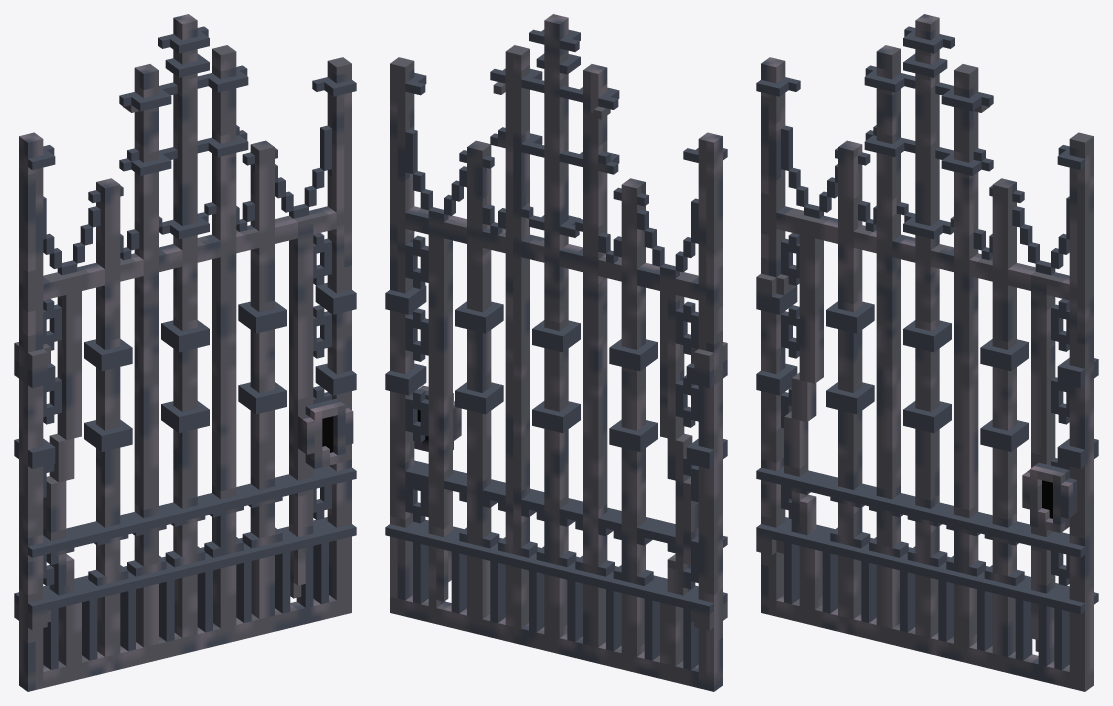
The model's file is Entrance_Portal-0.fbx.
3 renders of one model, left to right at view 1: azimuth 30°, elevation 25°; view 2: azimuth 150°, elevation 25°; view 3: azimuth 330°, elevation 25°, orthographic.
Parts seen in each view (by area): view 1: Entrance_Portal-0; view 2: Entrance_Portal-0; view 3: Entrance_Portal-0.
Part boxes in pixels (bbox=[...]): Entrance_Portal-0: bbox=[14, 14, 356, 691]; Entrance_Portal-0: bbox=[385, 14, 727, 691]; Entrance_Portal-0: bbox=[756, 14, 1098, 691].
Size of the model in its own units: 210 by 390 by 25.
